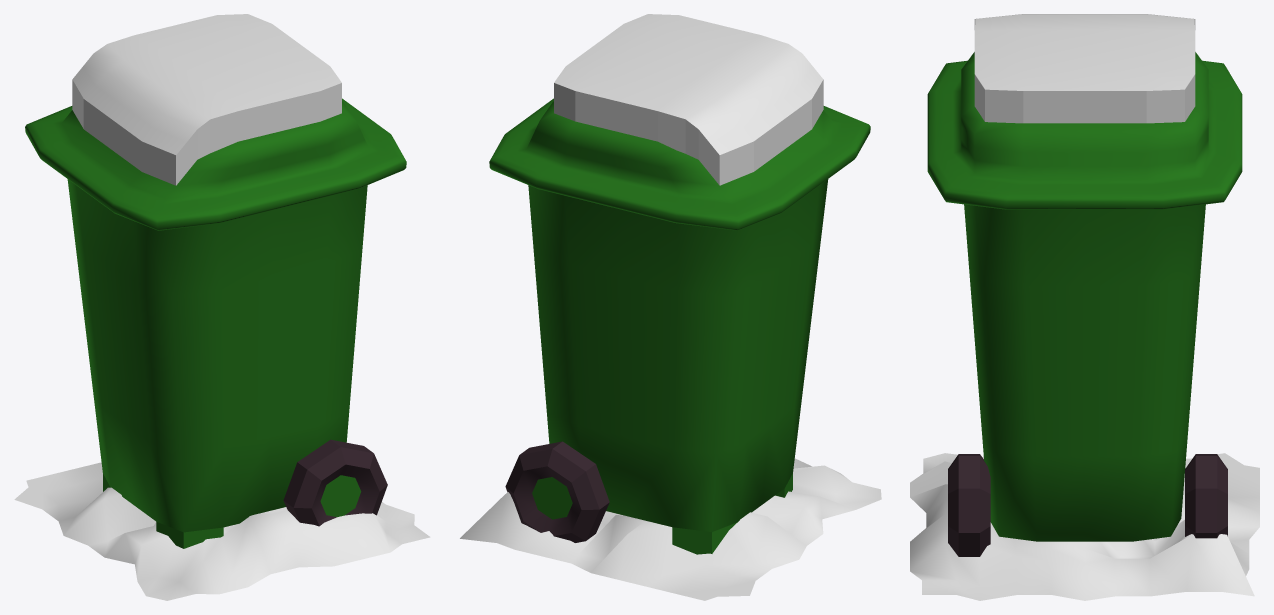
File: garbageCan.fbx
3 renders of one model, left to right at view 1: azimuth 30°, elevation 25°; view 2: azimuth 150°, elevation 25°; view 3: azimuth 270°, elevation 25°, orthographic. The views are drawn at different scales.
Visible parts, largest first — view 1: polySurface1, polySurface2, pPlane1, pCylinder3; view 2: polySurface1, polySurface2, pPlane1, pCylinder2; view 3: polySurface1, pPlane1, polySurface2, pCylinder3, pCylinder2.
Part boxes in pixels (x1,y1,x2,y2): polySurface1: (25,98,406,548); polySurface2: (72,14,341,185); pPlane1: (14,462,430,600); pCylinder3: (283,439,387,526); polySurface1: (489,98,870,554); polySurface2: (554,14,823,185); pPlane1: (460,458,881,600); pCylinder2: (505,441,609,542); polySurface1: (927,52,1242,541); pPlane1: (910,453,1259,600); polySurface2: (974,14,1195,123); pCylinder3: (948,454,990,556); pCylinder2: (1185,454,1227,538).
Bounding box in the file's own units: 0.6421 × 0.9634 × 0.6331.
